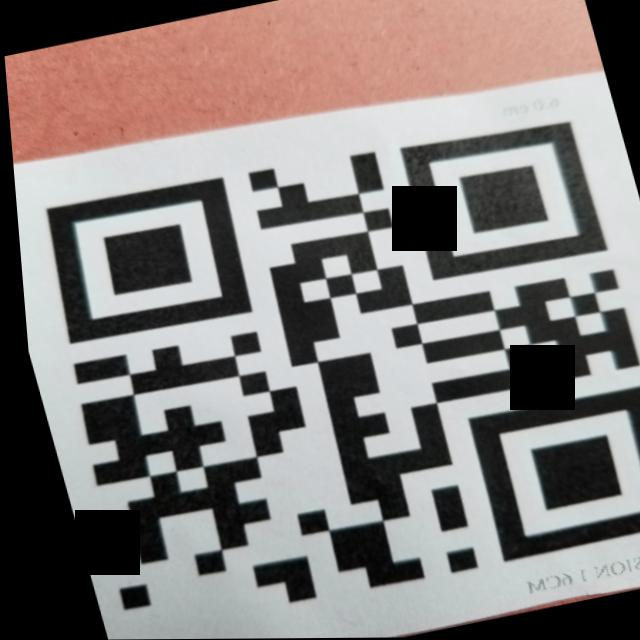QR_CODE: (5, 74, 640, 640)
